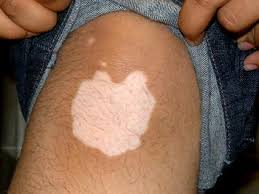vitiligo: (66, 50, 169, 166)
